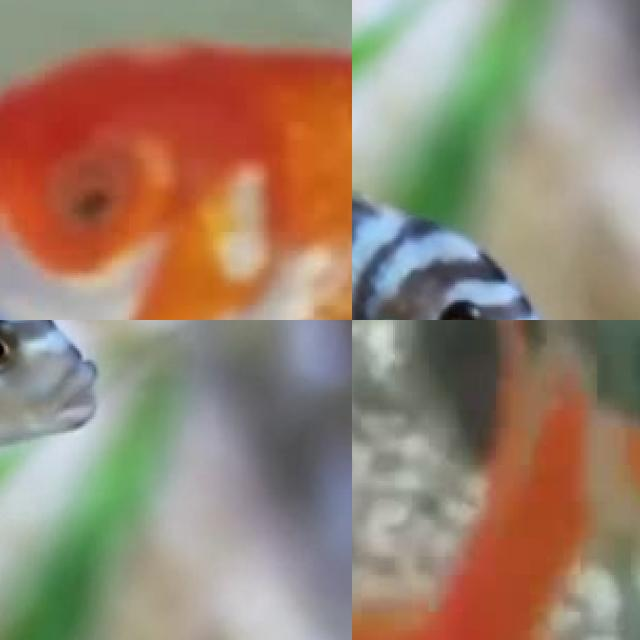fish: (0, 0, 352, 320), (352, 103, 598, 320), (0, 320, 102, 472)
